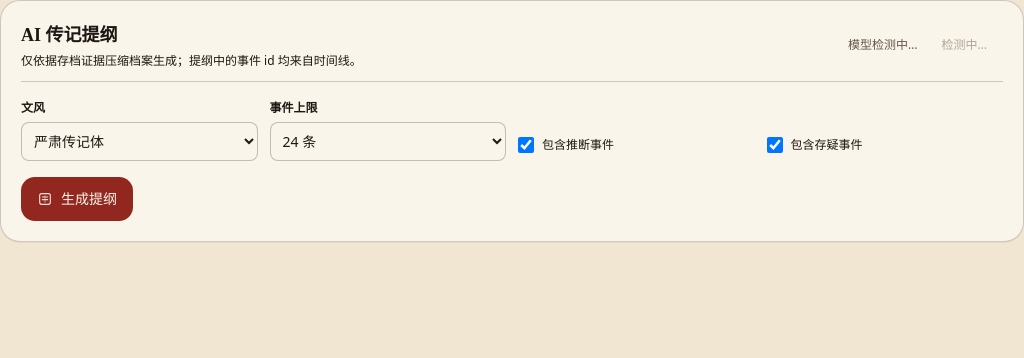
Test: OutlinePanel › 未配置模型 → 展示可操作错误提示
Click the button "生成提纲" at (77, 199), box [21,177,133,221]
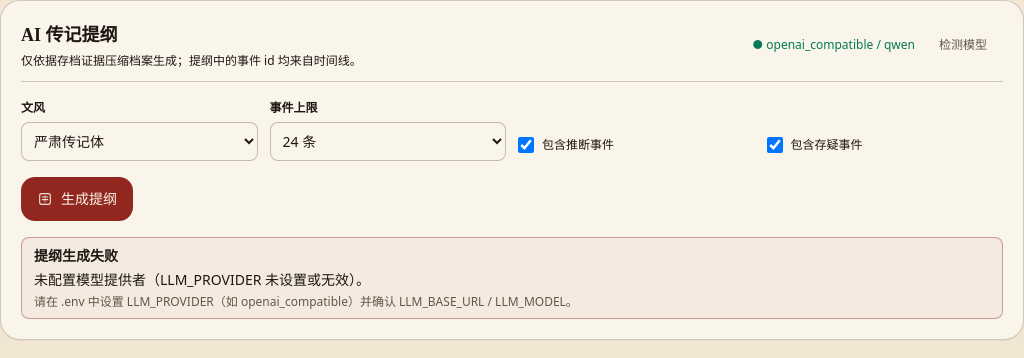
Expected: the text "提纲生成失败" is shown, [34,246,118,265]
Expected: the text "请在 .env 中设置 LLM_PROVIDER" is shown, [34,293,578,310]
